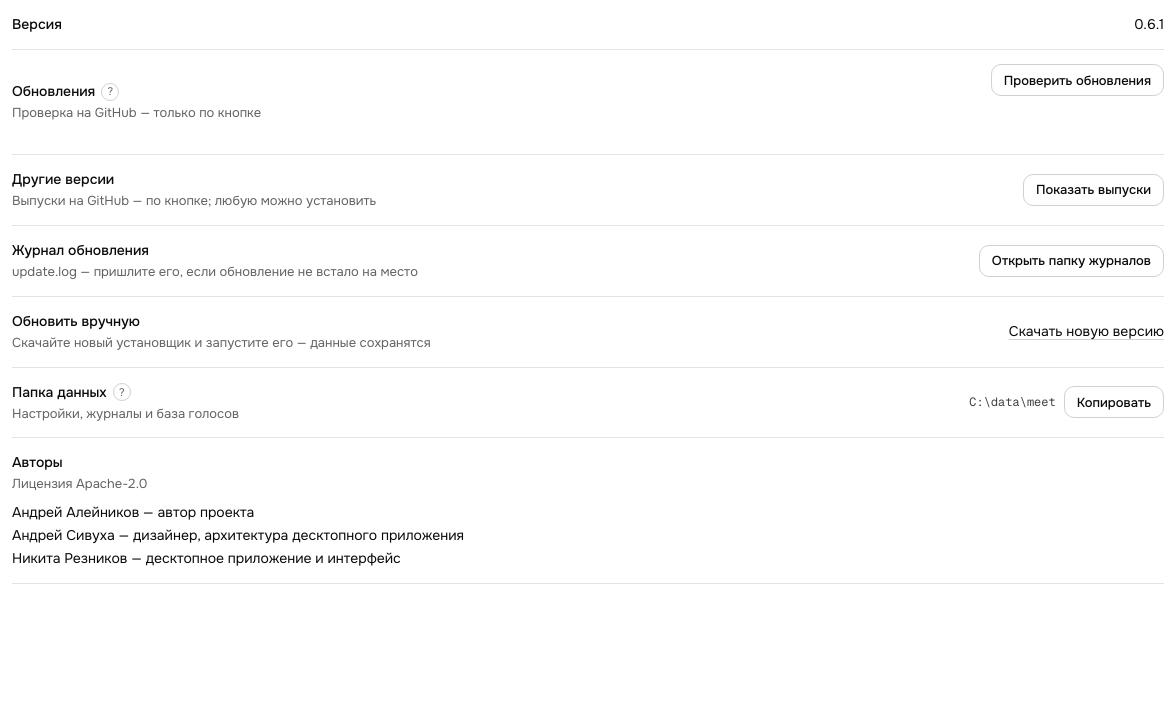
Test: выпусков ещё нет — не ошибка
Check: the text "C:\\data\\meet" is shown, box left=969, top=394, right=1056, bottom=410
Click the button "Проверить обновления" at (1077, 80), box left=991, top=64, right=1164, bottom=96
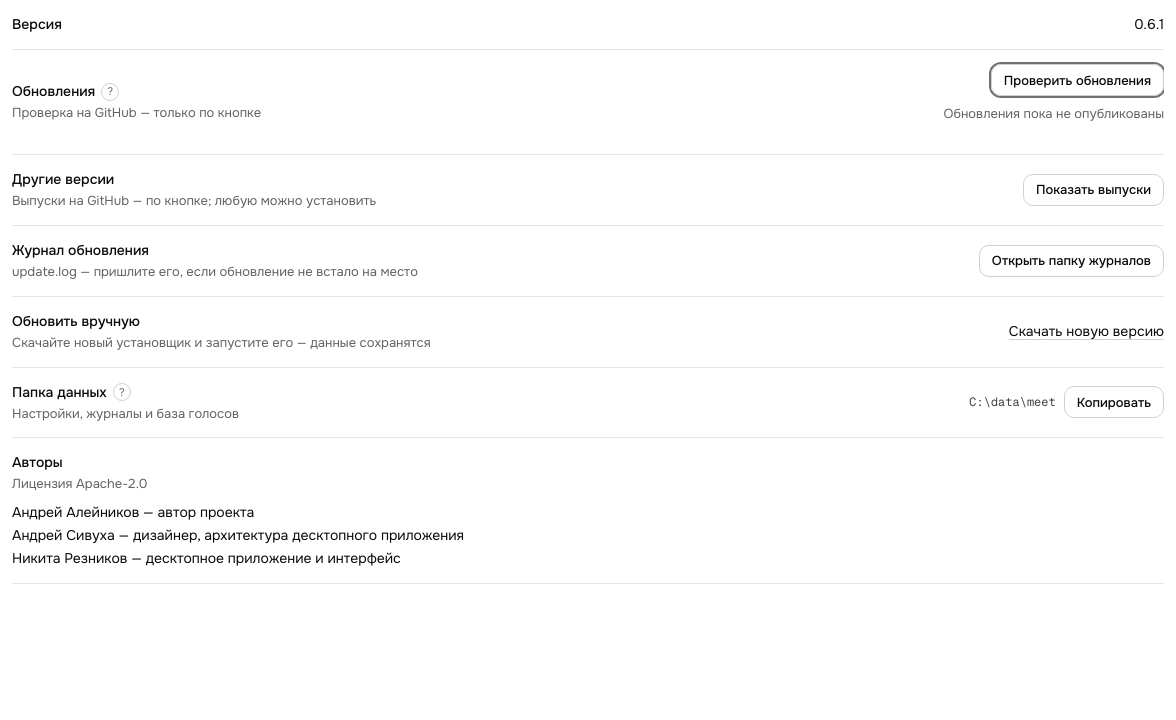
Check: the text "Обновления пока не опубликованы" is shown, box left=944, top=104, right=1164, bottom=124
